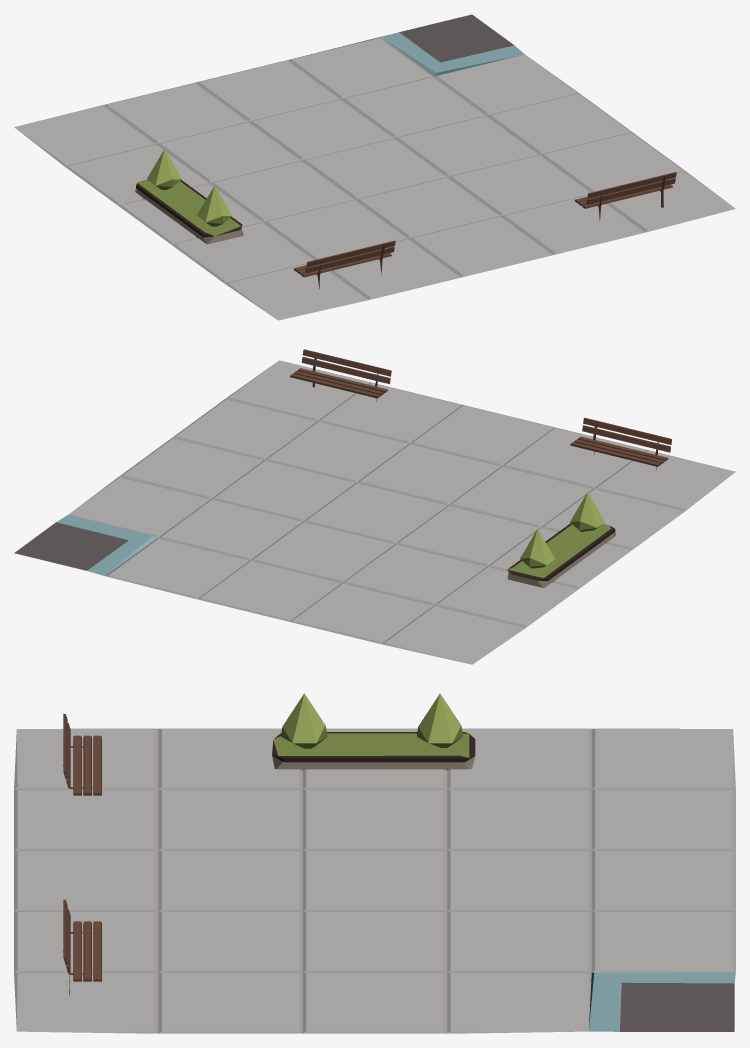
File: QmUPZbyAiWZNC6CbK1q1YDAWvgtz9JkapxosGzsnNo5BdP_lod2.fbx
3 renders of one model, top to bottom at view 1: azimuth 30°, elevation 25°; view 2: azimuth 150°, elevation 25°; view 3: azimuth 270°, elevation 25°, orthographic. The views are drawn at different scales.
Visible parts, largest first — view 1: Entity_512; view 2: Entity_512; view 3: Entity_512.
Boxes of the visible parts, x1,y1,x2,y2 form: Entity_512: (14,14,735,320); Entity_512: (14,349,735,664); Entity_512: (14,693,735,1033).
Bounding box in the file's own units: 16000 × 1591 × 16000.
1 material, 1 textured.
